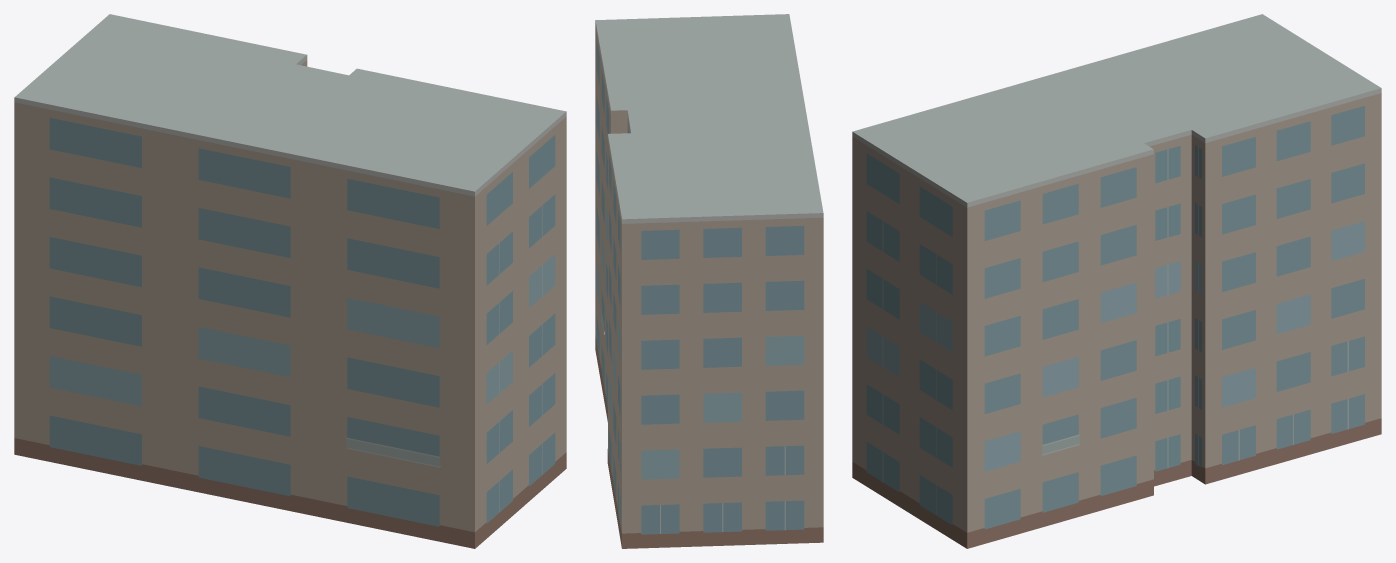
Rendered from survey-upis-32959770.glb.
3 views of the same model, side by side, from view 1: azimuth 30°, elevation 25°; view 2: azimuth 150°, elevation 25°; view 3: azimuth 270°, elevation 25° (orthographic). The views are drawn at different scales.
Parts seen in each view (by area): view 1: survey-upis-32959770.tmp; view 2: survey-upis-32959770.tmp; view 3: survey-upis-32959770.tmp.
Part boxes in pixels (x1,y1,x2,y2): survey-upis-32959770.tmp: (14,14,566,548); survey-upis-32959770.tmp: (595,14,823,548); survey-upis-32959770.tmp: (852,14,1381,548).
Size of the model in its own units: 20.49 by 17.5 by 24.28.
